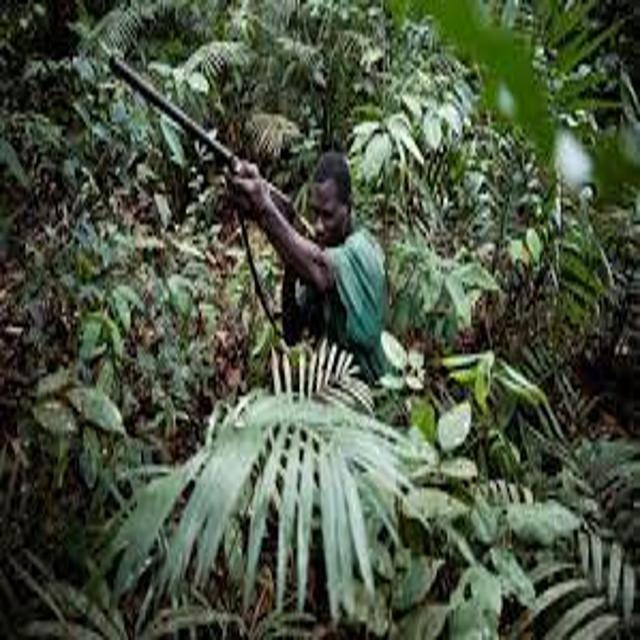gun: (66, 19, 375, 347)
poacher: (181, 116, 429, 405)
